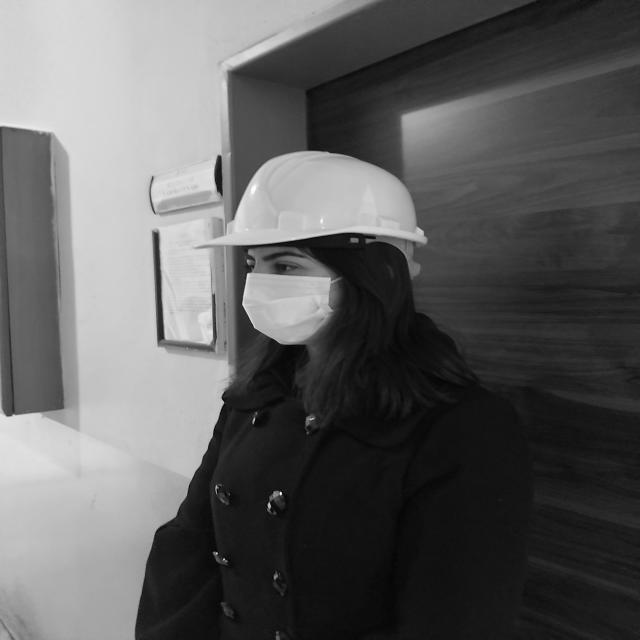safety_helmet: (211, 151, 428, 280)
